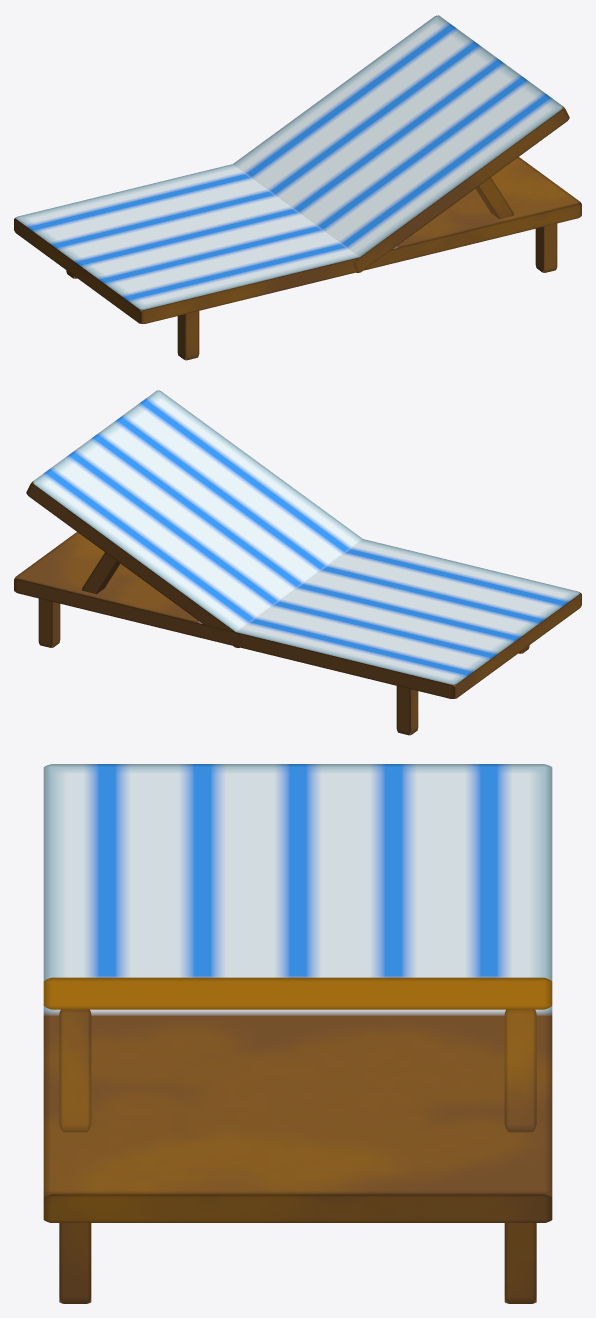
Rendered from camadepraia.fbx.
3 renders of one model, top to bottom at view 1: azimuth 30°, elevation 25°; view 2: azimuth 150°, elevation 25°; view 3: azimuth 270°, elevation 25°, orthographic. The views are drawn at different scales.
Parts seen in each view (by area): view 1: cuboid_1, cuboid, cuboid_2, cuboid_4, cuboid_6; view 2: cuboid_1, cuboid, cuboid_3, cuboid_5, cuboid_7; view 3: cuboid, cuboid_1, cuboid_6, cuboid_7, cuboid_4, cuboid_5.
Part boxes in pixels (<box>): cuboid_1: <box>233,15,569,272</box>; cuboid: <box>14,157,581,323</box>; cuboid_2: <box>177,311,199,360</box>; cuboid_4: <box>535,223,557,272</box>; cuboid_6: <box>475,177,513,219</box>; cuboid_1: <box>26,390,362,647</box>; cuboid: <box>14,532,581,698</box>; cuboid_3: <box>396,686,418,735</box>; cuboid_5: <box>38,598,60,647</box>; cuboid_7: <box>82,552,120,594</box>; cuboid: <box>43,764,552,1222</box>; cuboid_1: <box>43,977,552,1009</box>; cuboid_6: <box>59,1009,91,1132</box>; cuboid_7: <box>504,1009,536,1132</box>; cuboid_4: <box>59,1223,91,1303</box>; cuboid_5: <box>504,1223,536,1303</box>.
Bounding box in the file's own units: 100 × 35.71 × 50.
